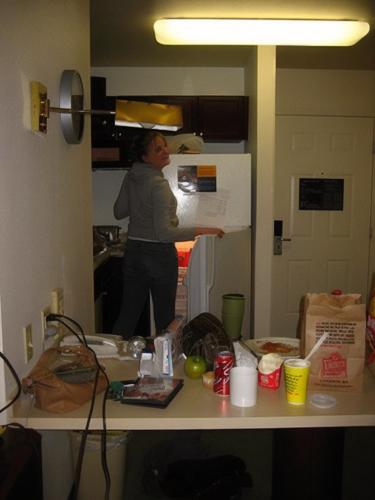person: (113, 133, 227, 340)
person/hand: (210, 226, 225, 240)
person/head: (137, 136, 170, 168)
pottedplant: (223, 291, 243, 338)
